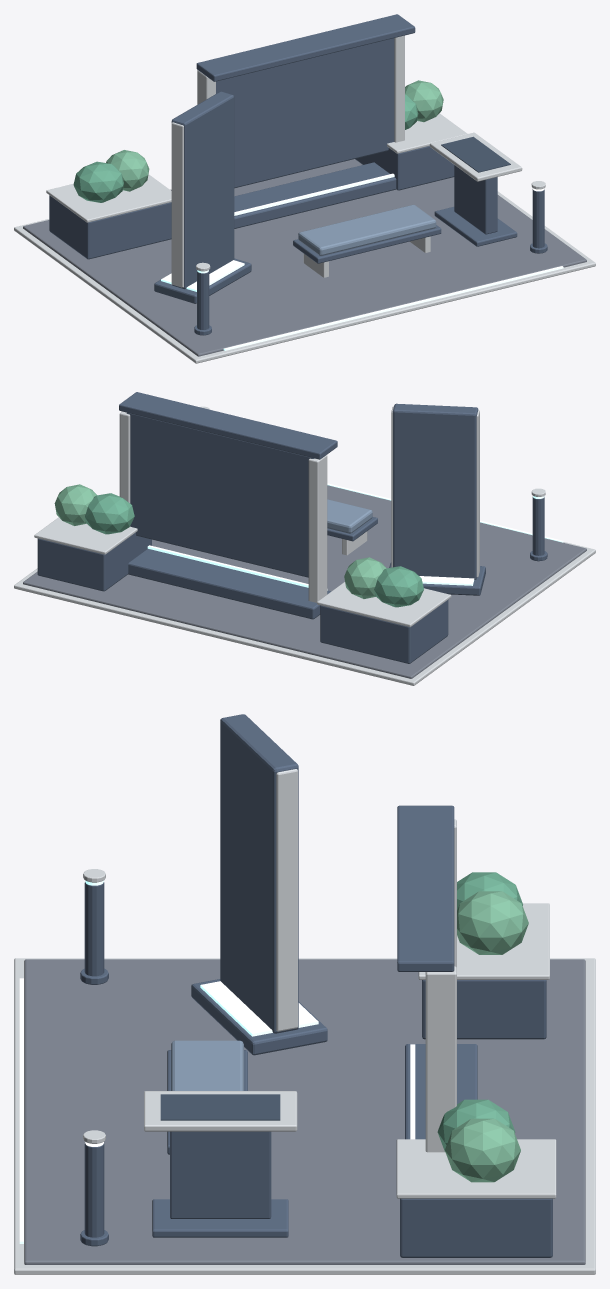
The model's file is interactive_expo_corner_v27_5.glb.
3 renders of one model, top to bottom at view 1: azimuth 30°, elevation 25°; view 2: azimuth 150°, elevation 25°; view 3: azimuth 270°, elevation 25°, orthographic. The views are drawn at different scales.
Parts seen in each view (by area): view 1: V275Mat_ExpoSteelNavy, V275Mat_TechSlatePad, V275Mat_BrushedTitanium, V275Mat_SlateBlueFabric, V275Mat_LinearInfoLED, V275Mat_TechLeaf2, V275Mat_TechLeaf1, V275Mat_DarkDisplayGlass; view 2: V275Mat_ExpoSteelNavy, V275Mat_TechSlatePad, V275Mat_BrushedTitanium, V275Mat_TechLeaf1, V275Mat_TechLeaf2, V275Mat_LinearInfoLED, V275Mat_SlateBlueFabric; view 3: V275Mat_TechSlatePad, V275Mat_ExpoSteelNavy, V275Mat_BrushedTitanium, V275Mat_TechLeaf2, V275Mat_LinearInfoLED, V275Mat_SlateBlueFabric, V275Mat_DarkDisplayGlass, V275Mat_TechLeaf1.
Boxes of the visible parts, bbox=[...] form: V275Mat_ExpoSteelNavy: bbox=[49, 14, 547, 335]; V275Mat_TechSlatePad: bbox=[23, 159, 586, 356]; V275Mat_BrushedTitanium: bbox=[14, 35, 595, 363]; V275Mat_SlateBlueFabric: bbox=[298, 204, 436, 255]; V275Mat_LinearInfoLED: bbox=[161, 173, 563, 350]; V275Mat_TechLeaf2: bbox=[106, 80, 443, 191]; V275Mat_TechLeaf1: bbox=[73, 94, 418, 202]; V275Mat_DarkDisplayGlass: bbox=[441, 136, 510, 172]; V275Mat_ExpoSteelNavy: bbox=[37, 392, 547, 663]; V275Mat_TechSlatePad: bbox=[23, 485, 586, 678]; V275Mat_BrushedTitanium: bbox=[14, 406, 595, 685]; V275Mat_TechLeaf1: bbox=[85, 493, 423, 607]; V275Mat_TechLeaf2: bbox=[54, 484, 386, 598]; V275Mat_LinearInfoLED: bbox=[147, 483, 563, 590]; V275Mat_SlateBlueFabric: bbox=[327, 499, 372, 533]; V275Mat_TechSlatePad: bbox=[24, 959, 585, 1264]; V275Mat_ExpoSteelNavy: bbox=[80, 714, 552, 1257]; V275Mat_BrushedTitanium: bbox=[14, 769, 595, 1274]; V275Mat_TechLeaf2: bbox=[445, 891, 528, 1182]; V275Mat_LinearInfoLED: bbox=[19, 880, 415, 1243]; V275Mat_SlateBlueFabric: bbox=[171, 1040, 243, 1090]; V275Mat_DarkDisplayGlass: bbox=[160, 1094, 280, 1120]; V275Mat_TechLeaf1: bbox=[437, 872, 522, 1151].
Size of the model in its own units: 5.68 by 2.45 by 4.48.
